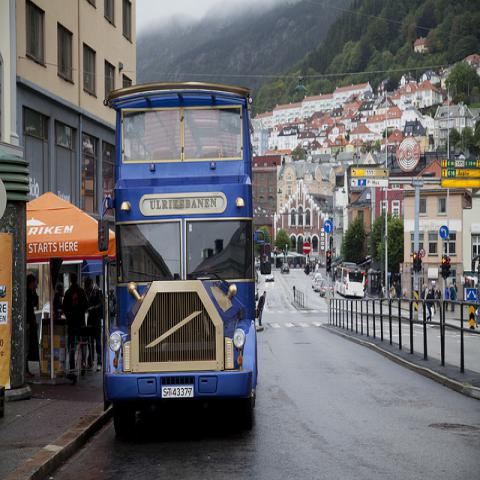bus: (107, 80, 259, 423), (335, 262, 365, 298)
car: (318, 281, 334, 297), (265, 268, 275, 282), (314, 279, 324, 291), (312, 276, 322, 288), (280, 263, 290, 274), (314, 273, 321, 278)
